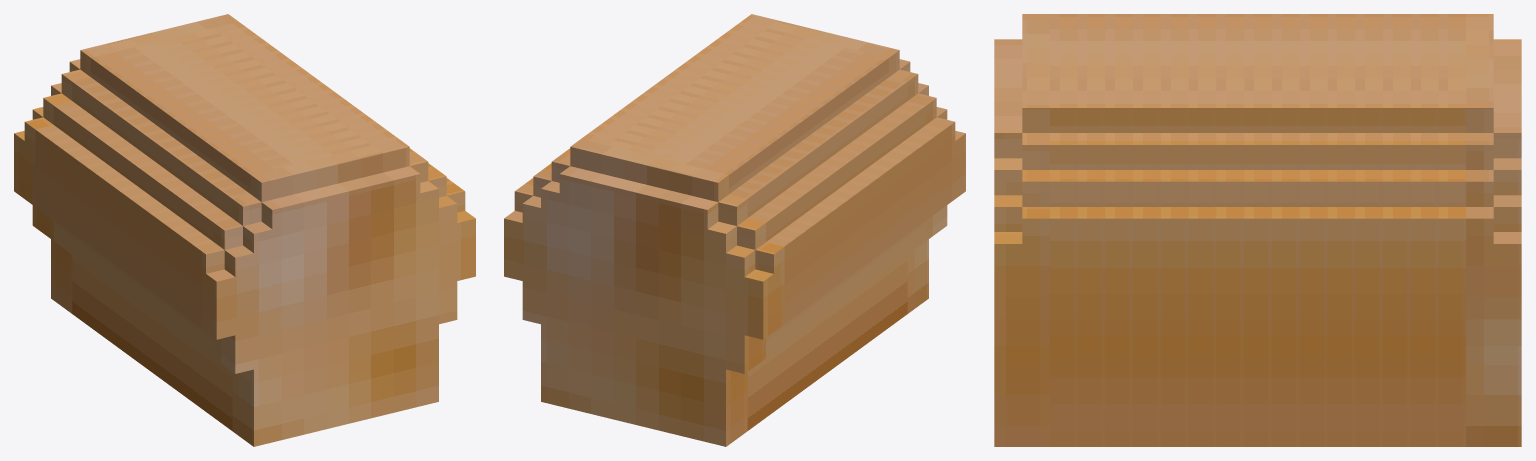
File: FullLoaf.fbx
The picture shows the model from 3 angles, left to right: view 1: azimuth 30°, elevation 25°; view 2: azimuth 150°, elevation 25°; view 3: azimuth 270°, elevation 25°; orthographic projection. The views are drawn at different scales.
Visible parts, largest first — view 1: BreadSliceEnd, BreadSliceEnd_2, BreadSlice_13, BreadSlice_10, BreadSlice_3, BreadSlice_4, BreadSlice_7, BreadSlice_1, BreadSlice_11, BreadSlice_5, BreadSlice_2, BreadSlice_8 (+5 smaller); view 2: BreadSliceEnd_2, BreadSliceEnd, BreadSlice_6, BreadSlice_7, BreadSlice_10, BreadSlice_13, BreadSlice_3, BreadSlice_15, BreadSlice_8, BreadSlice_11, BreadSlice_5, BreadSlice_2 (+5 smaller); view 3: BreadSliceEnd, BreadSliceEnd_2, BreadSlice_2, BreadSlice_6, BreadSlice_7, BreadSlice_10, BreadSlice_11, BreadSlice_15, BreadSlice_1, BreadSlice_3, BreadSlice_4, BreadSlice_5 (+5 smaller).
Part boxes in pixels (x1,y1,x2,y2): BreadSliceEnd: [195, 139, 475, 446]; BreadSliceEnd_2: [14, 14, 238, 313]; BreadSlice_13: [56, 37, 270, 336]; BreadSlice_10: [88, 61, 302, 360]; BreadSlice_3: [163, 115, 376, 415]; BreadSlice_4: [152, 107, 366, 407]; BreadSlice_7: [120, 84, 334, 383]; BreadSlice_1: [185, 131, 454, 430]; BreadSlice_11: [78, 53, 291, 352]; BreadSlice_5: [142, 100, 355, 399]; BreadSlice_2: [174, 123, 387, 423]; BreadSlice_8: [110, 76, 323, 376]; BreadSliceEnd_2: [504, 139, 784, 446]; BreadSliceEnd: [741, 14, 965, 313]; BreadSlice_6: [677, 61, 891, 360]; BreadSlice_7: [666, 68, 880, 368]; BreadSlice_10: [634, 92, 848, 391]; BreadSlice_13: [602, 115, 816, 415]; BreadSlice_3: [709, 37, 923, 336]; BreadSlice_15: [525, 131, 794, 430]; BreadSlice_8: [656, 76, 869, 376]; BreadSlice_11: [624, 100, 837, 399]; BreadSlice_5: [688, 53, 901, 352]; BreadSlice_2: [720, 29, 933, 329]; BreadSliceEnd: [994, 14, 1049, 446]; BreadSliceEnd_2: [1466, 14, 1521, 446]; BreadSlice_2: [1077, 14, 1105, 446]; BreadSlice_6: [1188, 14, 1216, 446]; BreadSlice_7: [1216, 14, 1244, 446]; BreadSlice_10: [1299, 14, 1327, 446]; BreadSlice_11: [1327, 14, 1355, 446]; BreadSlice_15: [1438, 14, 1466, 446]; BreadSlice_1: [1049, 14, 1077, 446]; BreadSlice_3: [1105, 14, 1132, 446]; BreadSlice_4: [1133, 14, 1160, 446]; BreadSlice_5: [1161, 14, 1188, 446].
Bounding box in the file's own units: 1.4 × 1.3 × 1.9.
Materials: 1 (1 with a texture image).
